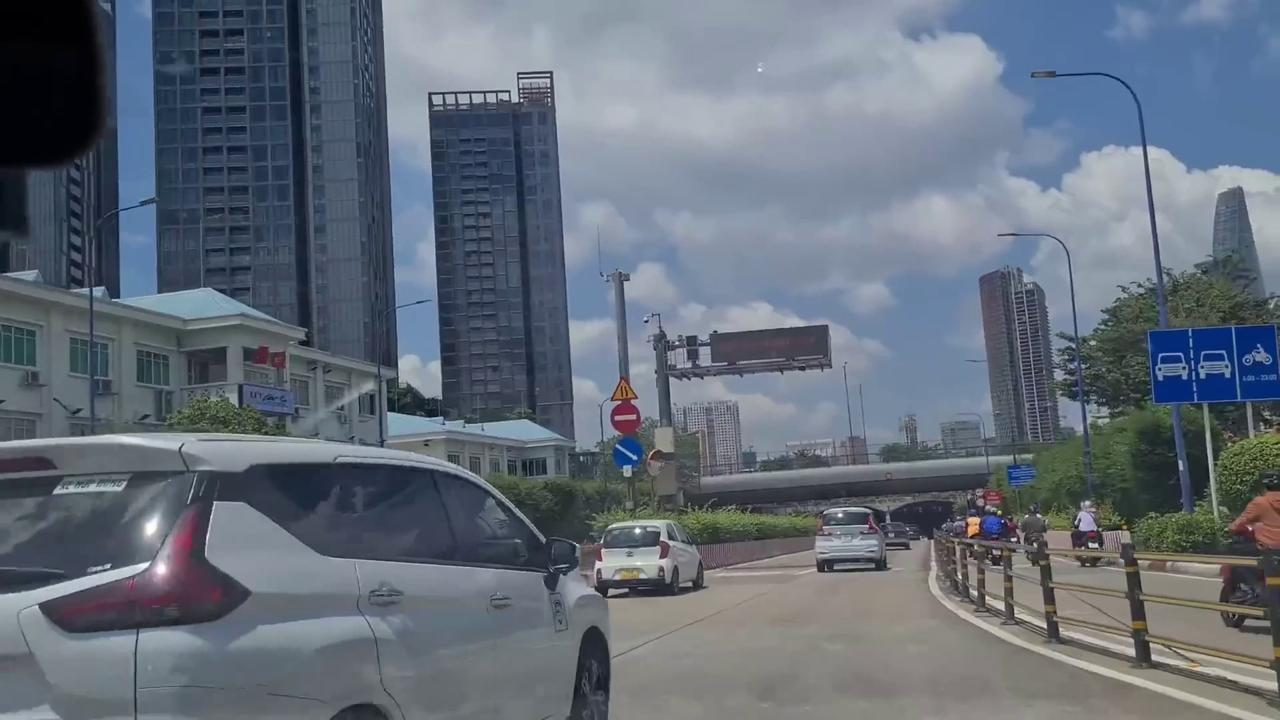Cấm đi ngược chiều: (610, 402, 644, 435)
Hướng phải đi vòng sang phải: (613, 436, 645, 470)
Làn đường cho từng xe: (1145, 328, 1280, 405)
Đuờng hẹp: (611, 374, 640, 401)
